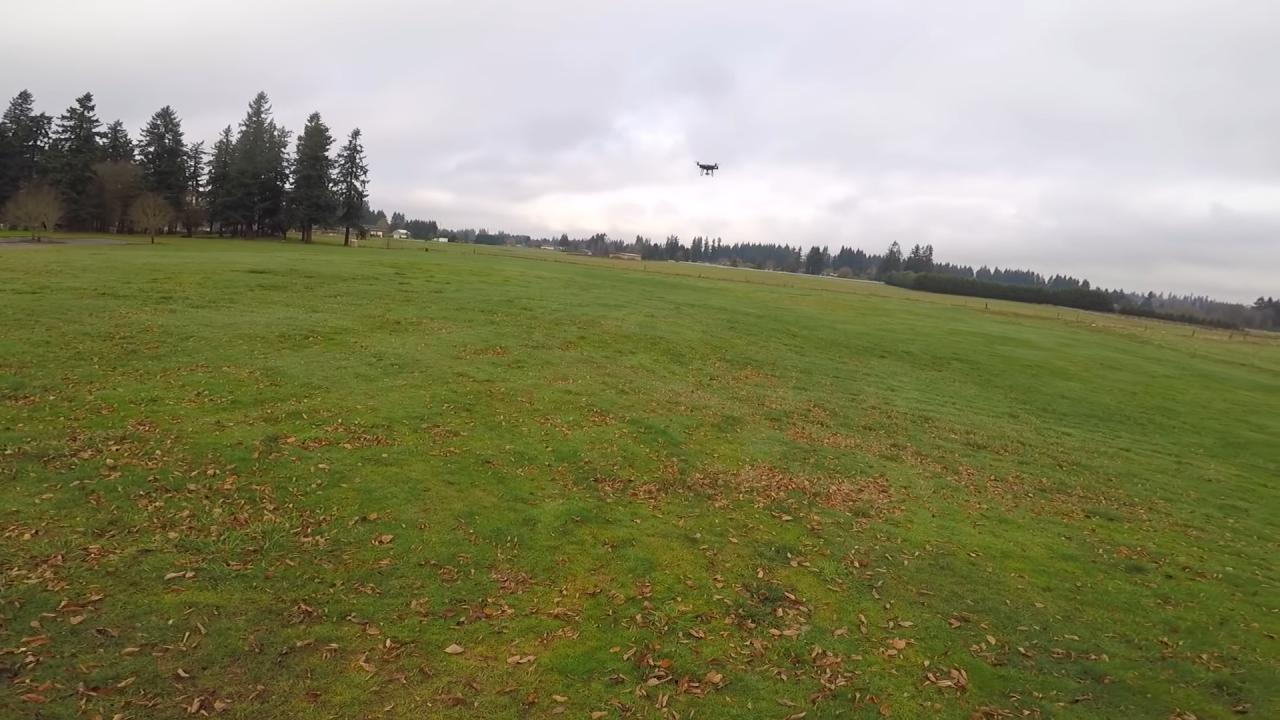Drone: (687, 152, 725, 185)
